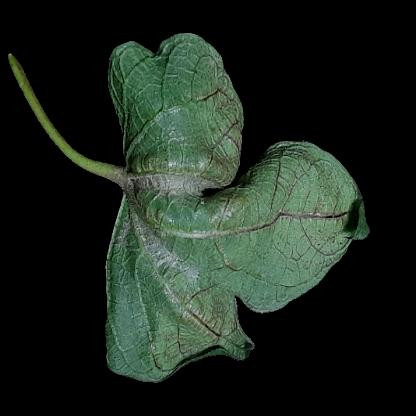curl_stage2: (135, 195, 234, 345), (129, 72, 229, 176), (249, 181, 351, 255), (108, 319, 179, 371), (240, 242, 302, 298), (112, 245, 161, 309), (269, 145, 319, 201)
